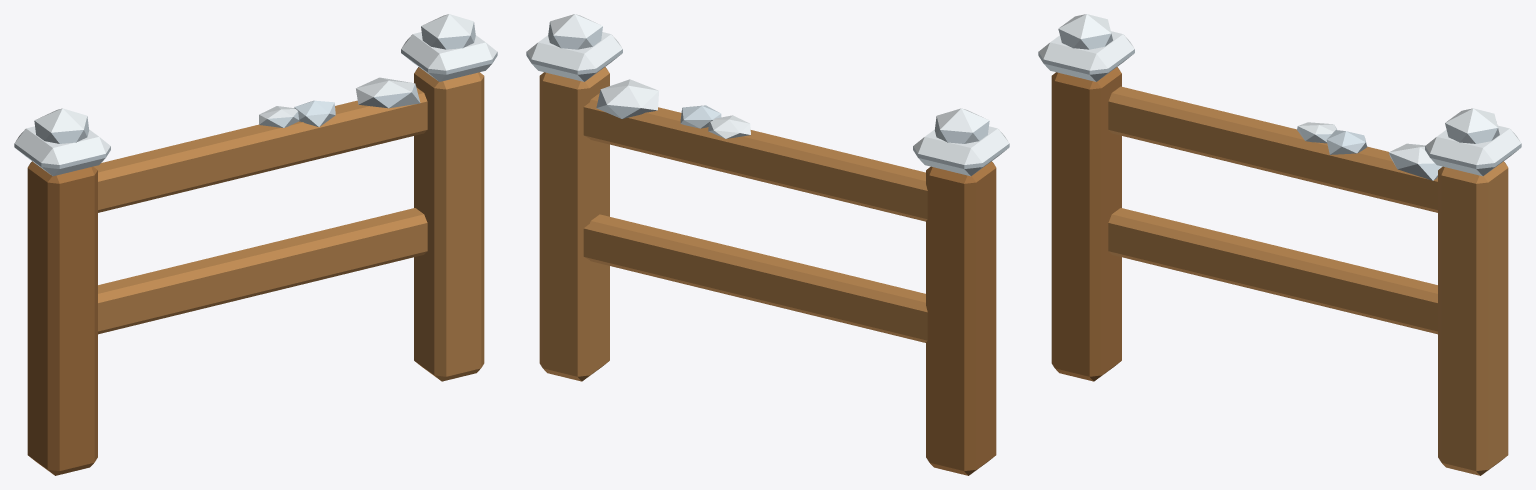
The model's file is snow_fence_1m.glb.
The picture shows the model from 3 angles, left to right: view 1: azimuth 30°, elevation 25°; view 2: azimuth 150°, elevation 25°; view 3: azimuth 330°, elevation 25°; orthographic projection.
Visible parts, largest first — view 1: snow_fence_1m; view 2: snow_fence_1m; view 3: snow_fence_1m.
Part boxes in pixels (x1,y1,x2,y2): snow_fence_1m: (14,14,497,475); snow_fence_1m: (526,14,1009,475); snow_fence_1m: (1038,14,1521,475).
Bounding box in the file's own units: 1.18 × 0.88 × 0.18.
